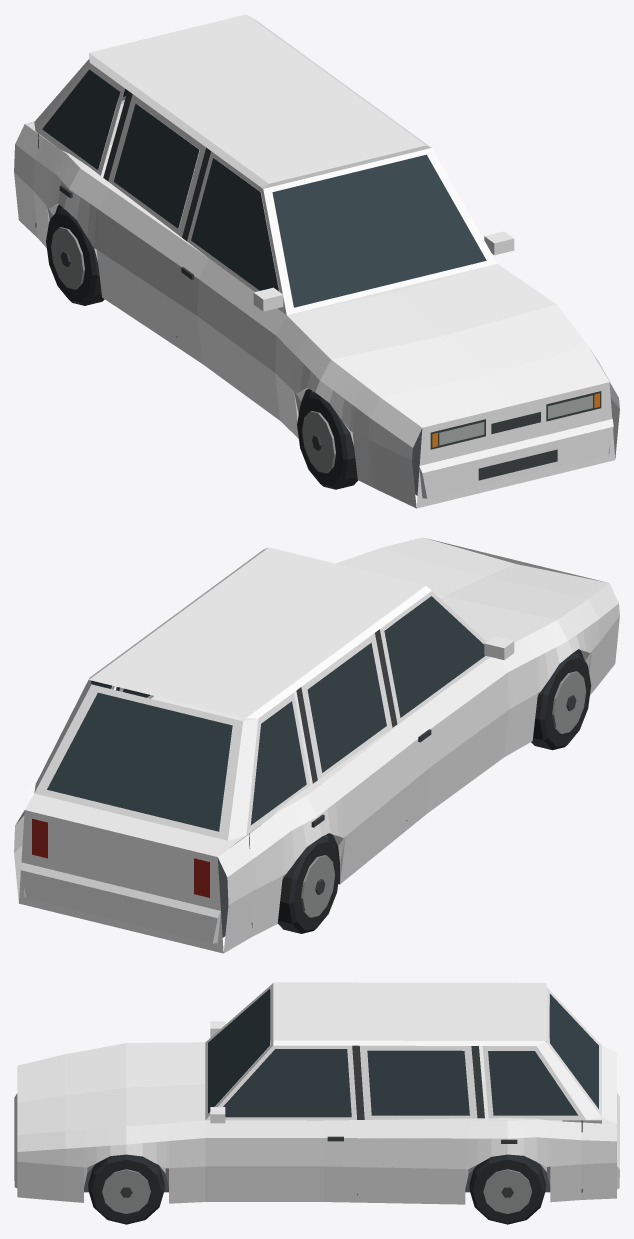
The model's file is hayase_sawarabi.glb.
3 renders of one model, top to bottom at view 1: azimuth 30°, elevation 25°; view 2: azimuth 150°, elevation 25°; view 3: azimuth 270°, elevation 25°, orthographic. The views are drawn at different scales.
Visible parts, largest first — view 1: hayase_sawarabi; view 2: hayase_sawarabi; view 3: hayase_sawarabi.
Boxes of the visible parts, x1,y1,x2,y2 form: hayase_sawarabi: (14, 14, 619, 508); hayase_sawarabi: (14, 537, 619, 953); hayase_sawarabi: (14, 982, 619, 1224).
Size of the model in its own units: 1.8 by 1.48 by 4.83.
8 materials, 1 textured.
